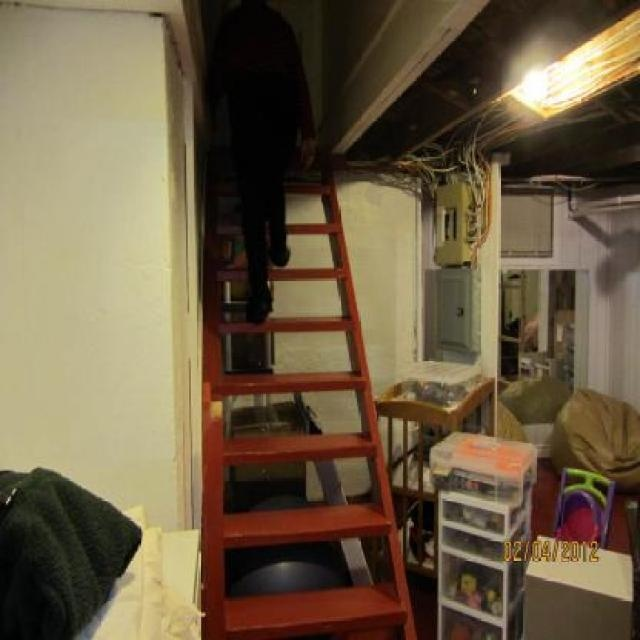stair: (202, 152, 415, 640)
